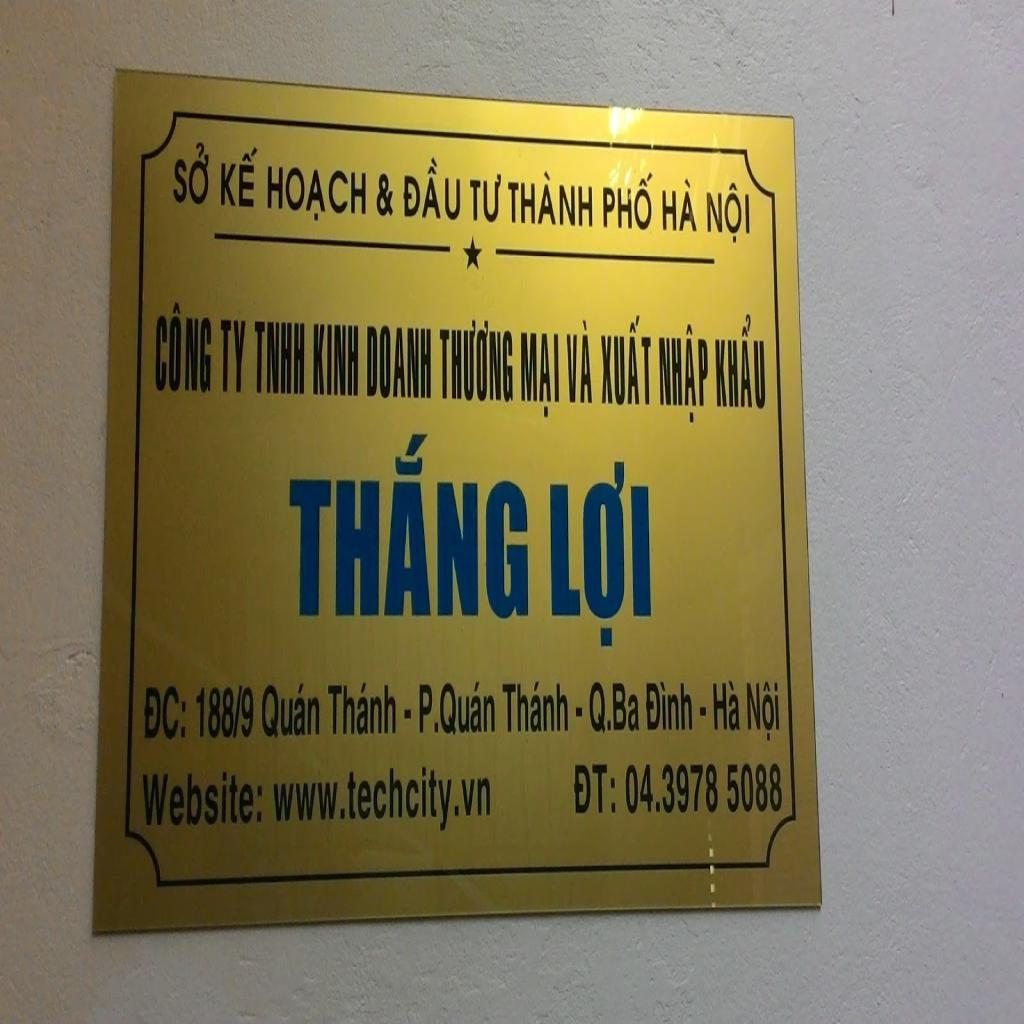text: (286, 432, 529, 619), (550, 457, 653, 651), (272, 764, 492, 838), (142, 768, 264, 828), (439, 319, 513, 405), (266, 165, 368, 223), (155, 302, 213, 394), (506, 168, 593, 229), (714, 313, 766, 413), (659, 323, 709, 426), (366, 324, 433, 400), (600, 313, 653, 407), (418, 679, 496, 736), (403, 155, 462, 223), (254, 321, 306, 396), (327, 683, 399, 737), (260, 680, 322, 741), (520, 331, 561, 420), (502, 680, 569, 734), (313, 323, 359, 398), (193, 685, 255, 739), (603, 169, 655, 231), (706, 180, 752, 247), (588, 680, 642, 735), (564, 317, 594, 405), (645, 681, 693, 734), (571, 762, 617, 817), (173, 141, 211, 206), (143, 685, 187, 741), (220, 146, 259, 209), (746, 680, 781, 746), (661, 175, 699, 233), (220, 318, 247, 394), (468, 171, 502, 225), (711, 680, 741, 732), (376, 172, 395, 218)
